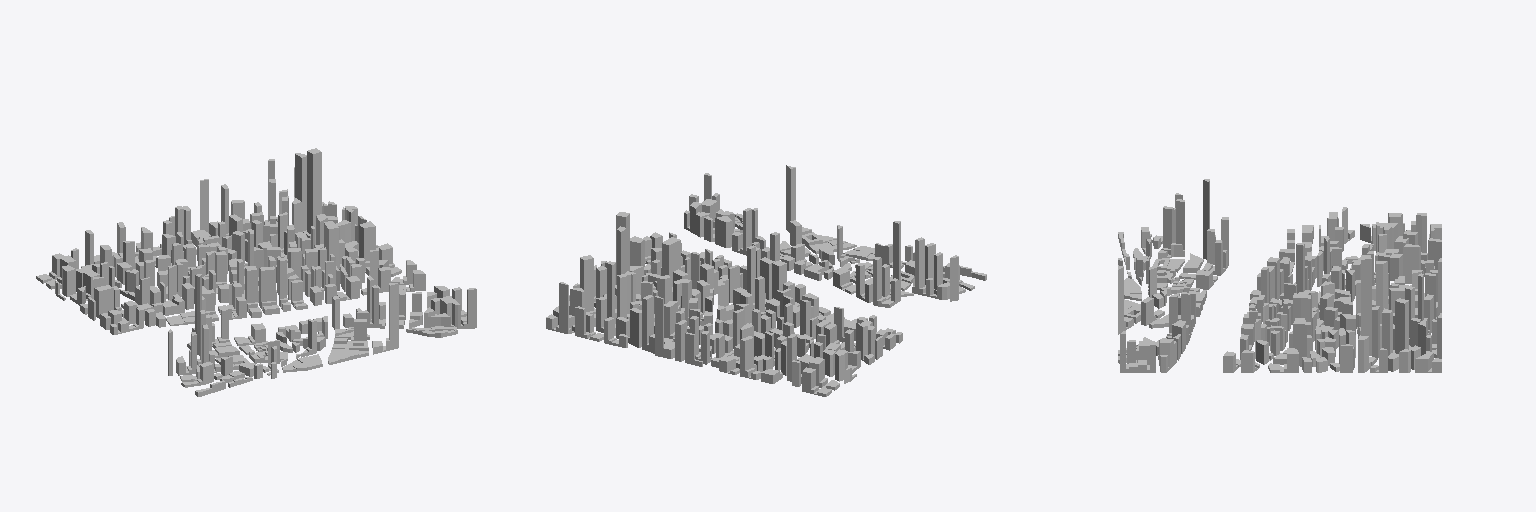
File: buildings_00010.obj
3 views of the same model, side by side, from view 1: azimuth 30°, elevation 25°; view 2: azimuth 150°, elevation 25°; view 3: azimuth 270°, elevation 25° (orthographic).
Bounding box in the file's own units: 1512 × 496 × 1500.